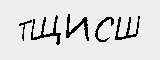И: (66, 12, 90, 44)
С: (94, 14, 115, 45)
Т: (17, 19, 30, 41)
Ш: (113, 14, 140, 43)
Щ: (31, 14, 61, 46)
